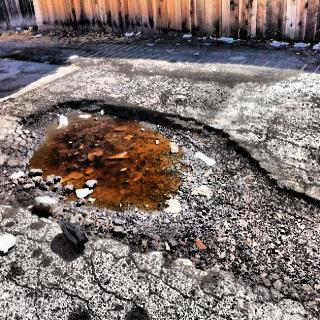pothole: (9, 95, 235, 268), (234, 140, 320, 314)
